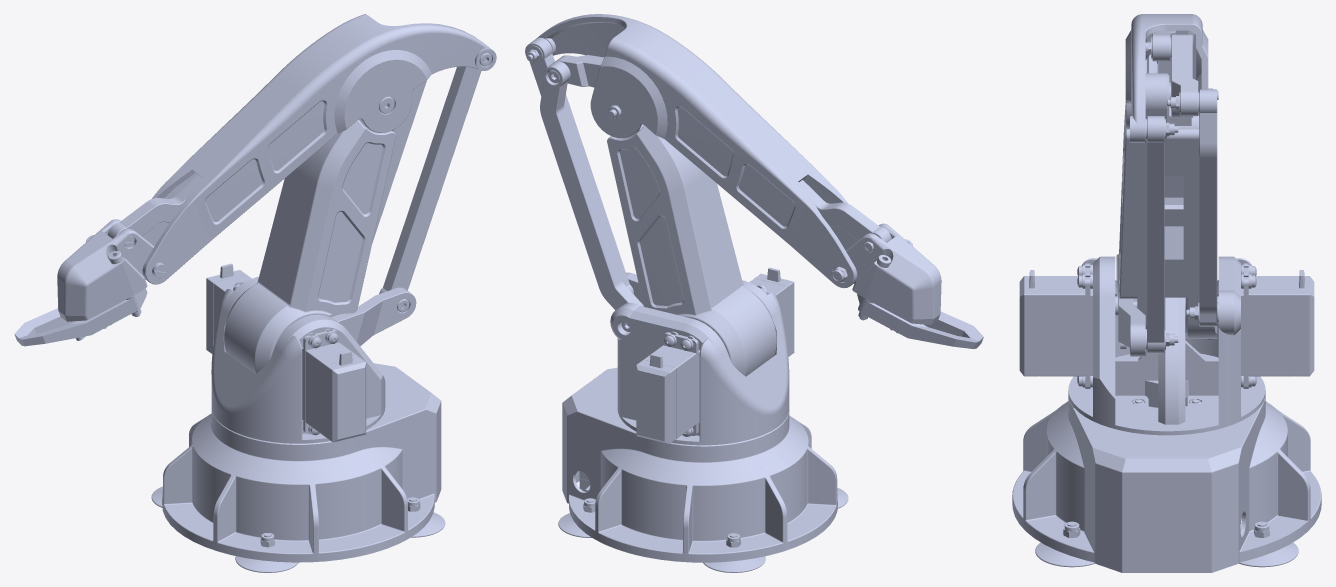
Rendered from dolphin_arm.glb.
3 renders of one model, left to right at view 1: azimuth 30°, elevation 25°; view 2: azimuth 150°, elevation 25°; view 3: azimuth 270°, elevation 25°, orthographic. The views are drawn at different scales.
Visible parts, largest first — view 1: (Aula 29) (resposta) Conjunto Base Giratória/(Aula 29) (resp (×12), (Aula 29) (resposta) Conjunto Base Fixa/(Aula 29) (resposta) (×2), (Aula 29) (resposta) Conjunto Base Fixa/(Aula 29)M4 吸盘（2018）; view 2: (Aula 29) (resposta) Conjunto Base Giratória/(Aula 29) (resp (×12), (Aula 29) (resposta) Conjunto Base Fixa/(Aula 29) (resposta) (×2), (Aula 29) (resposta) Conjunto Base Fixa/(Aula 29)M4 吸盘（2018）; view 3: (Aula 29) (resposta) Conjunto Base Giratória/(Aula 29) (resp (×10), (Aula 29) (resposta) Conjunto Base Fixa/(Aula 29) (resposta) (×2), (Aula 29) (resposta) Conjunto Base Fixa/(Aula 29)M4 吸盘（2018） (×2).
Part boxes in pixels (x1,y1,x2,y2): (Aula 29) (resposta) Conjunto Base Giratória/(Aula 29) (resp (×12): (19, 14, 496, 443); (Aula 29) (resposta) Conjunto Base Fixa/(Aula 29) (resposta) (×2): (162, 363, 441, 562); (Aula 29) (resposta) Conjunto Base Fixa/(Aula 29)M4 吸盘（2018）: (235, 533, 298, 572); (Aula 29) (resposta) Conjunto Base Giratória/(Aula 29) (resp (×12): (525, 14, 983, 445); (Aula 29) (resposta) Conjunto Base Fixa/(Aula 29) (resposta) (×2): (562, 367, 837, 562); (Aula 29) (resposta) Conjunto Base Fixa/(Aula 29)M4 吸盘（2018）: (703, 533, 765, 572); (Aula 29) (resposta) Conjunto Base Giratória/(Aula 29) (resp (×10): (1019, 14, 1314, 435); (Aula 29) (resposta) Conjunto Base Fixa/(Aula 29) (resposta) (×2): (1012, 395, 1321, 572); (Aula 29) (resposta) Conjunto Base Fixa/(Aula 29)M4 吸盘（2018） (×2): (1035, 521, 1298, 567).
Size of the model in its own units: 0.27 by 0.2623 by 0.138.
